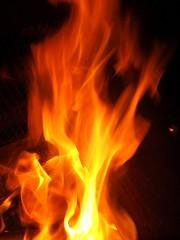fire: (27, 22, 147, 240)
